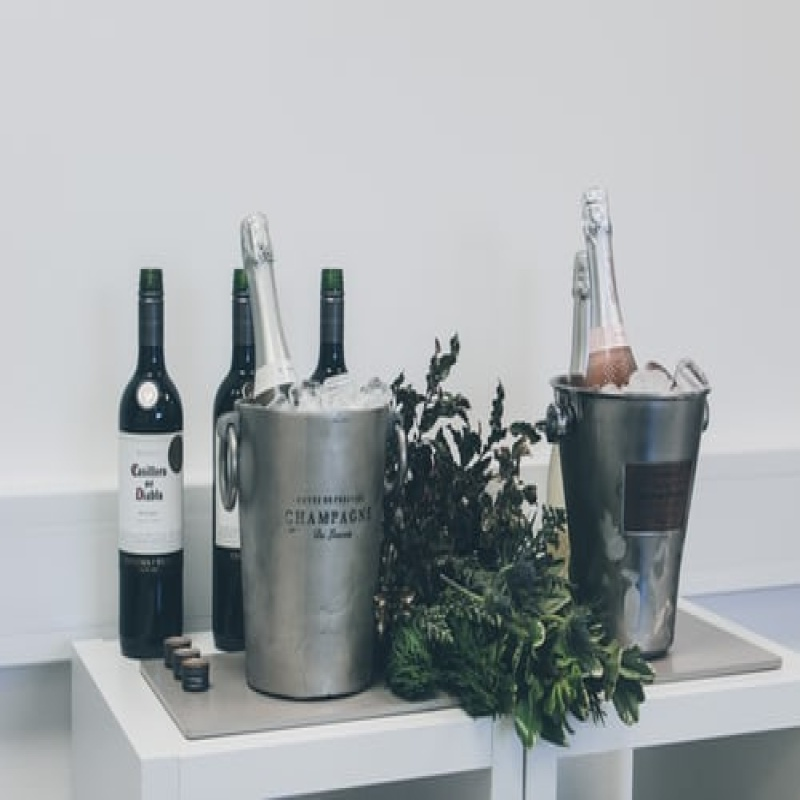wine: (112, 270, 187, 660), (216, 265, 243, 644)
